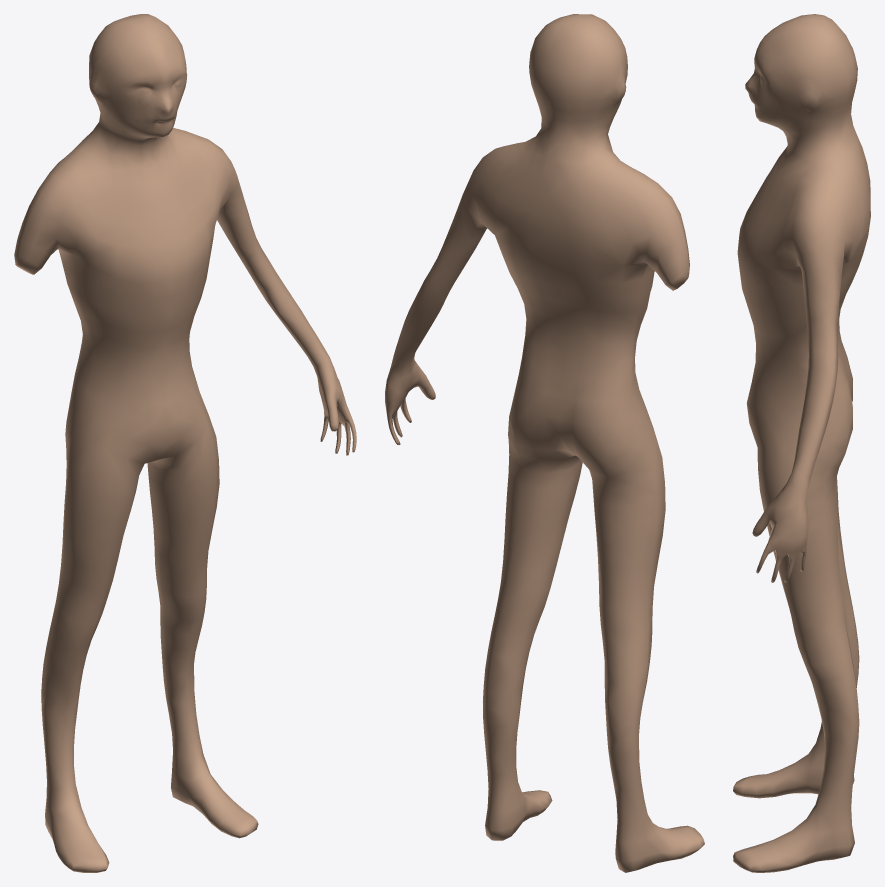
The model's file is withouthandzombie.obj.
The picture shows the model from 3 angles, left to right: view 1: azimuth 30°, elevation 25°; view 2: azimuth 150°, elevation 25°; view 3: azimuth 270°, elevation 25°; orthographic projection. The views are drawn at different scales.
Visible parts, largest first — view 1: humanBody; view 2: humanBody; view 3: humanBody.
Boxes of the visible parts, x1,y1,x2,y2 form: humanBody: [14, 14, 356, 872]; humanBody: [385, 14, 704, 872]; humanBody: [733, 14, 870, 872].
Bounding box in the file's own units: 28.63 × 71.55 × 11.01.
